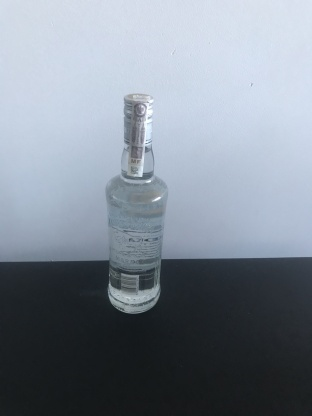nakretka: (120, 89, 155, 149)
